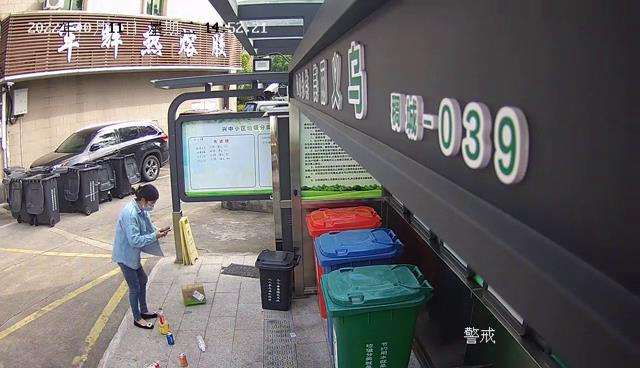lvzhipin: (178, 352, 188, 368), (166, 331, 175, 345)
suliaozhipin: (156, 306, 170, 335), (195, 333, 207, 353)
worker: (109, 183, 172, 330)
zhizhipin: (180, 280, 207, 307)
